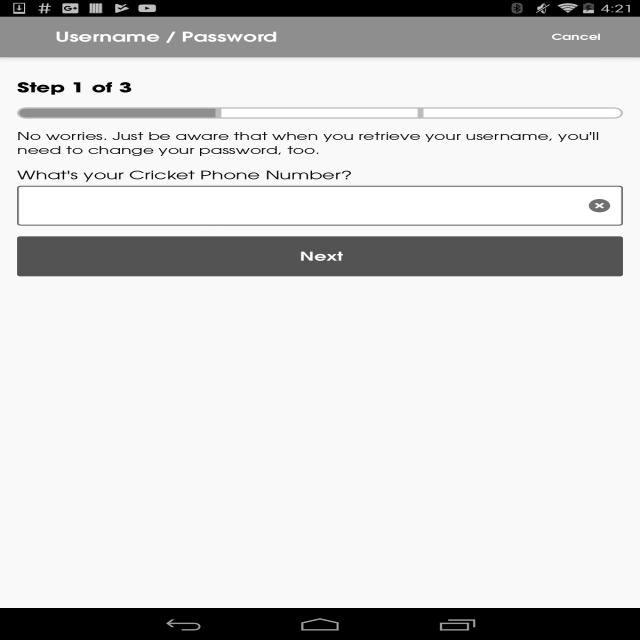Button: (17, 236, 623, 276)
EditText: (17, 186, 584, 226)
ImageView: (589, 199, 610, 212)
TextView: (17, 68, 623, 108), (17, 118, 623, 156), (34, 16, 277, 56), (17, 168, 623, 182), (491, 16, 606, 56)
